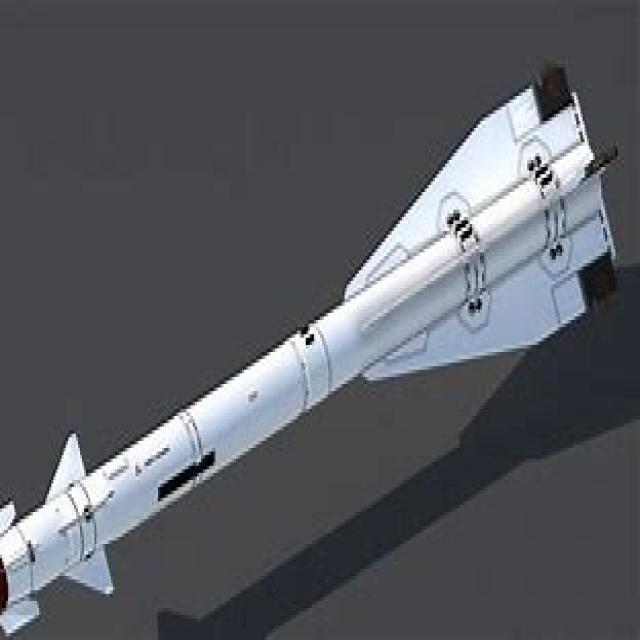missile: (2, 64, 618, 630)
